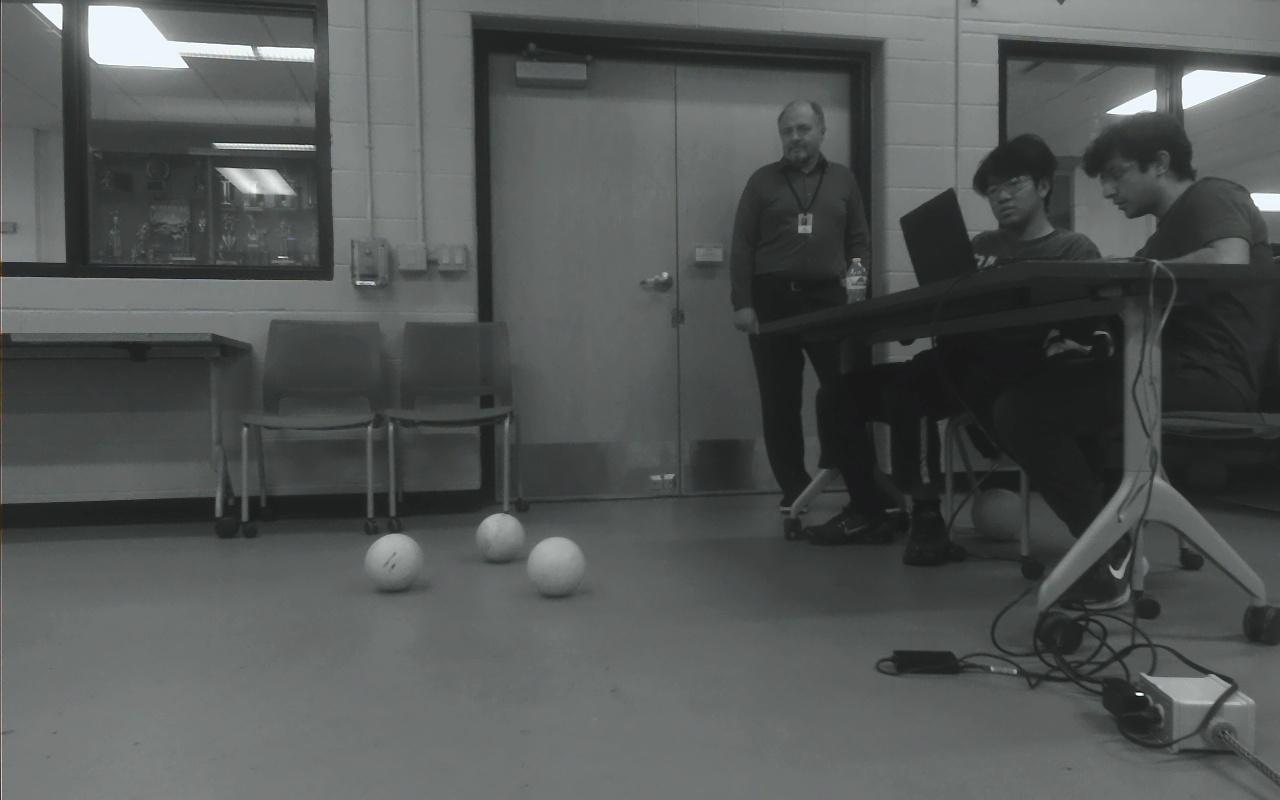Fuel: (526, 536, 586, 596), (364, 533, 422, 590), (474, 511, 526, 562)
